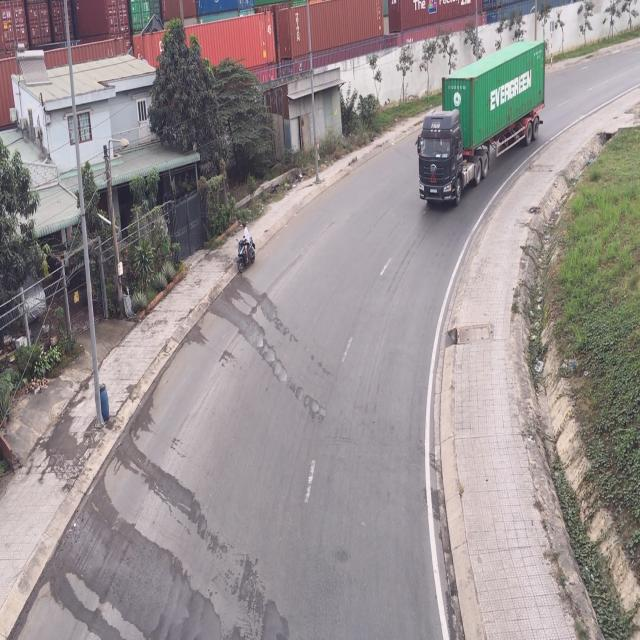motorbike: (237, 226, 257, 274)
truck: (412, 43, 542, 209)
